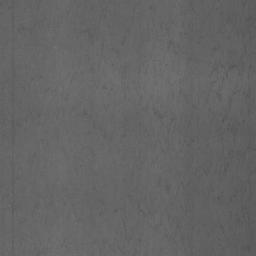Silk spot: (216, 123, 238, 142), (221, 62, 244, 75), (215, 162, 229, 176), (236, 212, 250, 224), (228, 150, 245, 159), (153, 108, 164, 121), (83, 29, 93, 38), (243, 88, 251, 99)
